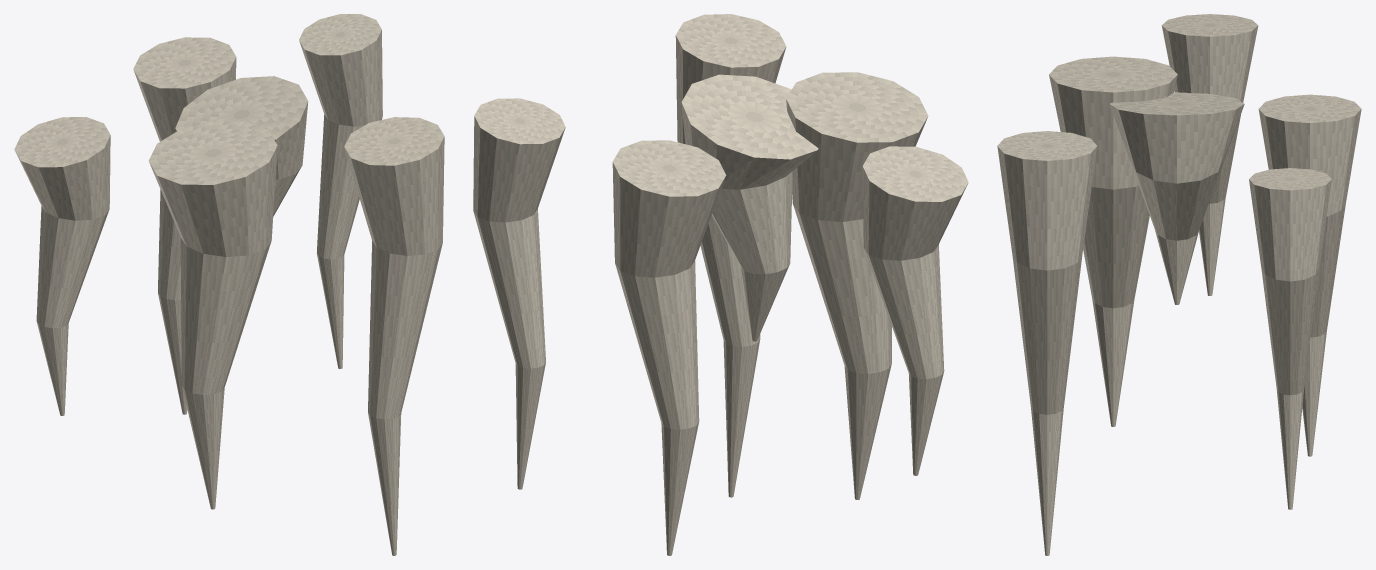
File: cave-and-crystal-networks-stalactite-2-a8febbf8.glb
3 views of the same model, side by side, from view 1: azimuth 30°, elevation 25°; view 2: azimuth 150°, elevation 25°; view 3: azimuth 270°, elevation 25° (orthographic). The views are drawn at different scales.
Visible parts, largest first — view 1: stalactite-2; view 2: stalactite-2; view 3: stalactite-2.
Boxes of the visible parts, x1=… form: stalactite-2: x1=14, y1=14, x2=444, y2=555; stalactite-2: x1=473, y1=14, x2=968, y2=555; stalactite-2: x1=997, y1=14, x2=1361, y2=555.
Size of the model in its own units: 1.22 by 1.25 by 0.9726.
Materials: 1 (1 with a texture image).
